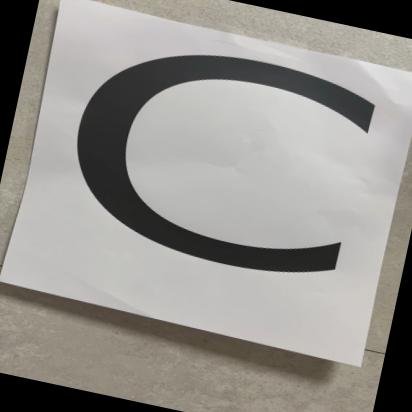seat: (7, 0, 412, 372)
